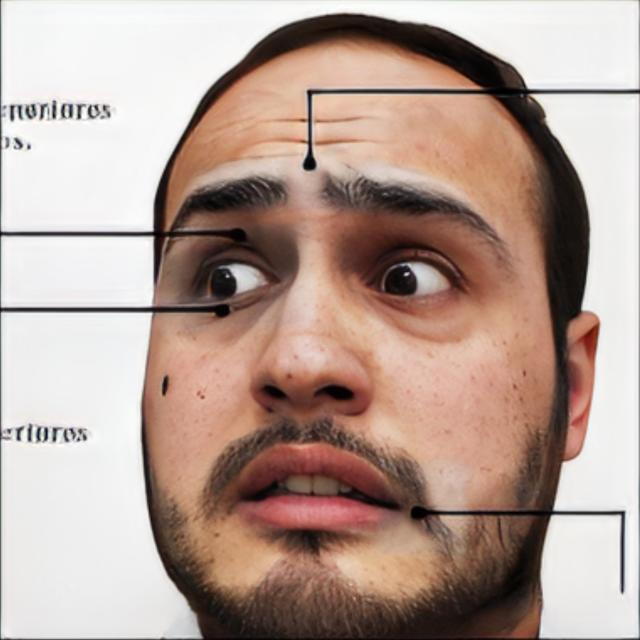fear: (142, 36, 570, 634)
